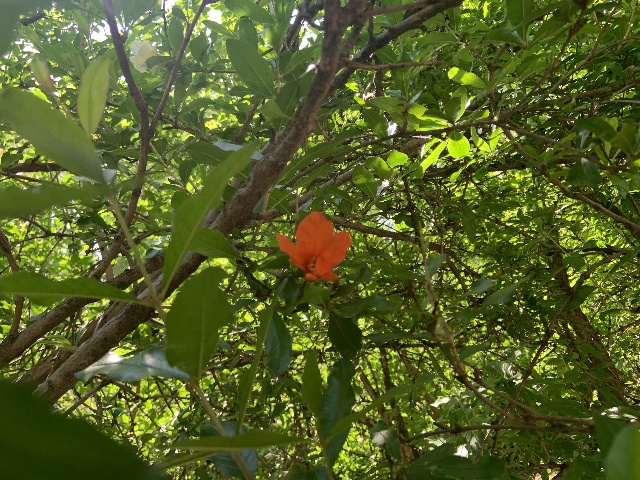flower: (276, 210, 351, 283)
